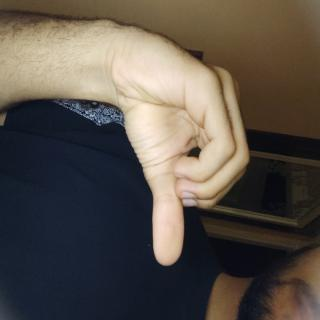WAW: (4, 82, 202, 320)
